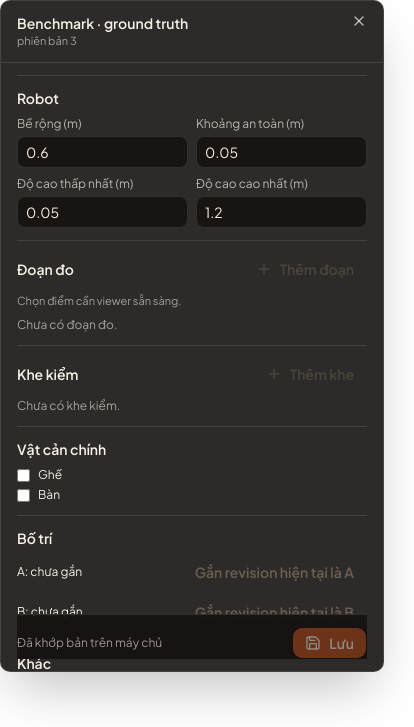
panel Benchmark › gắn bố trí A: gửi revision hiện tại; hiển thị thời điểm do máy chủ trả về
Check: the button "Lưu" is shown, box [292,627,367,659]
What coordinates should you click on to do the following:
click the button "Gắn revision hiện tại là A"
I would click on:
 (274, 572)
Its box is [182,556,367,588].
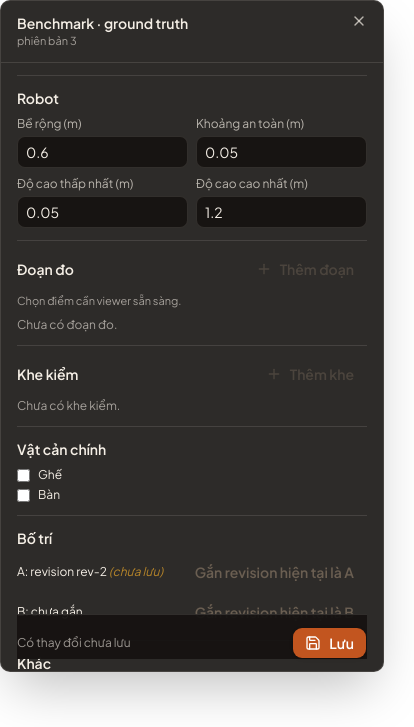
What coordinates should you click on to do the following:
click the button "Lưu"
I would click on:
 (330, 643)
Its box is [292,627,367,659].
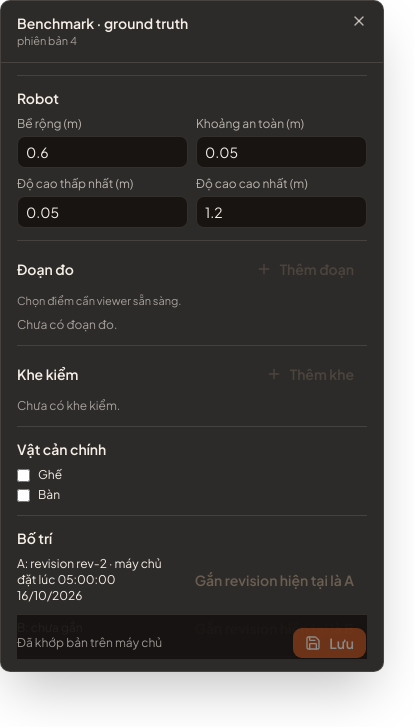
Check: the text "A: revision rev-2 · máy chủ đặt lúc 05:00:00 16/10/2026" is shown, box [17,556,174,604]
